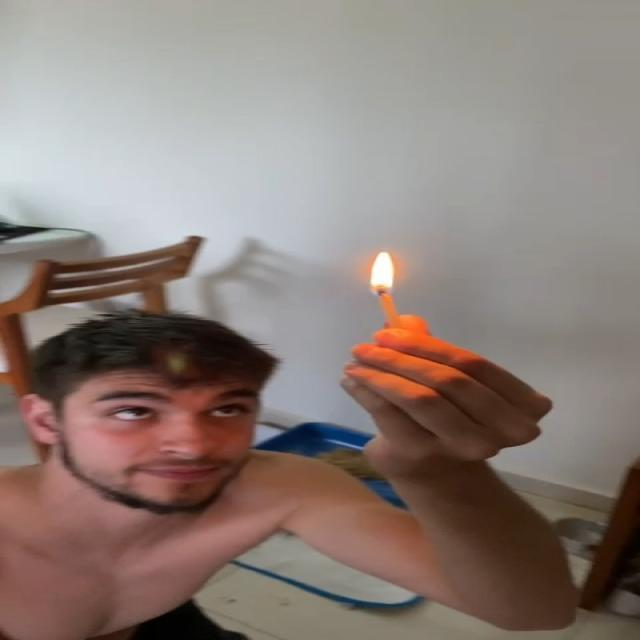fire: (363, 251, 403, 297)
